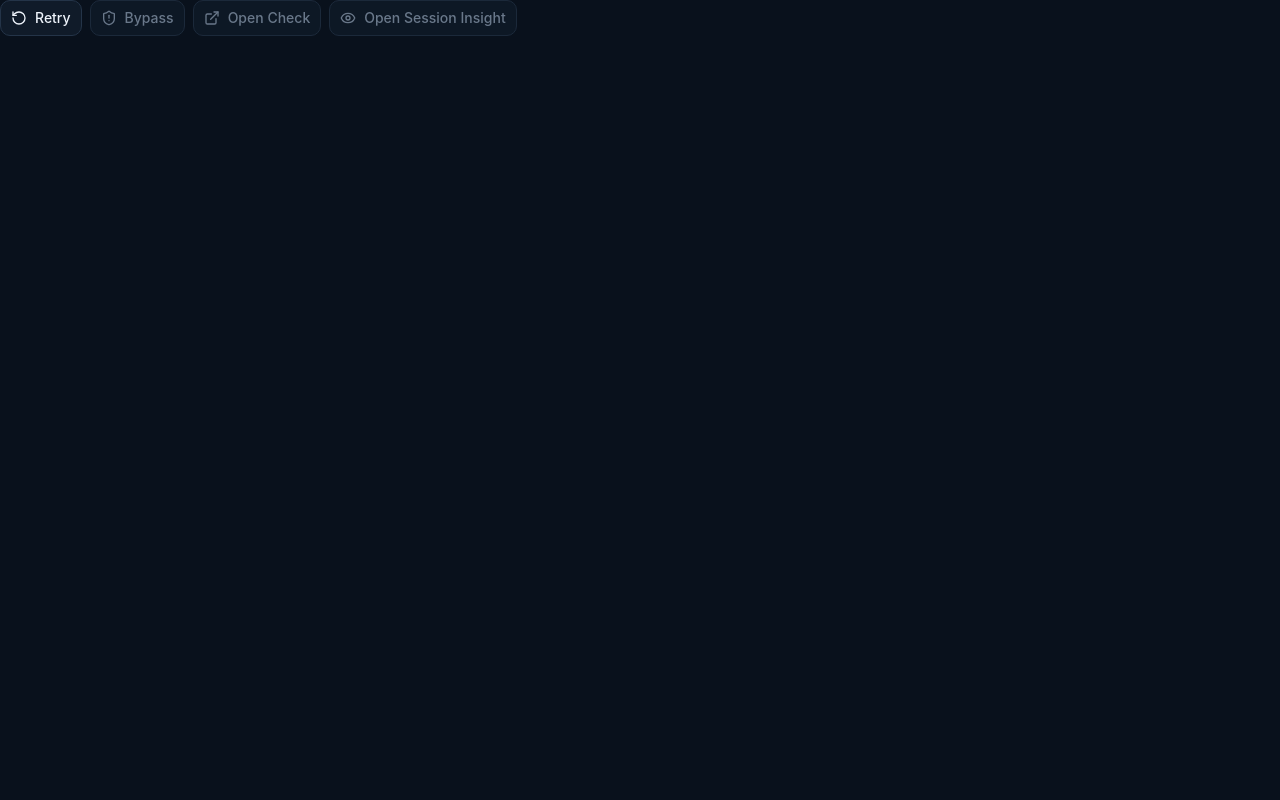
Scenario: Retry confirmation › github authoritative retry copy states the standing decision is revoked
Click the button "Retry": [41, 18] box [0, 0, 82, 36]
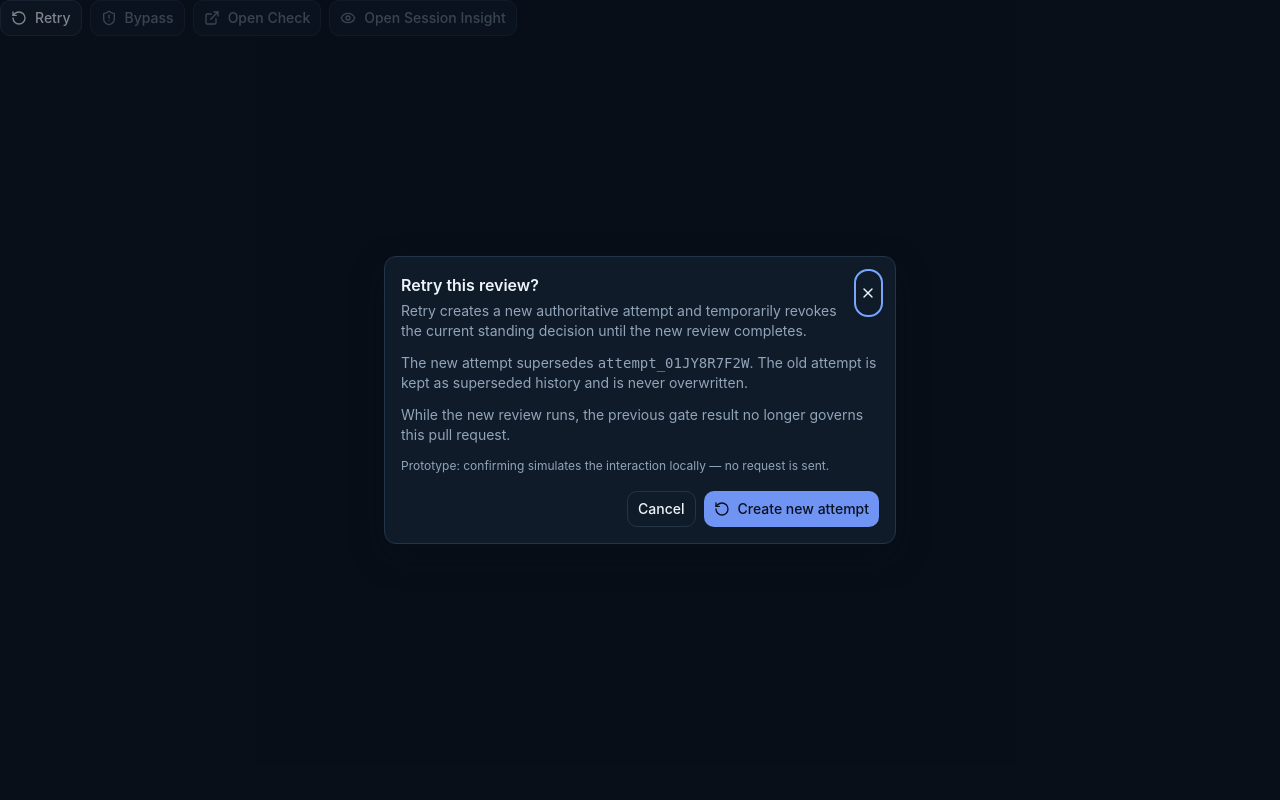
Result: the text "temporarily revokes the current standing decision" is shown at [401, 302, 837, 339]
Result: the text "superseded history and is never overwritten" is shown at [401, 354, 876, 391]
Click the button "Create new attempt": [791, 509] box [704, 491, 879, 527]
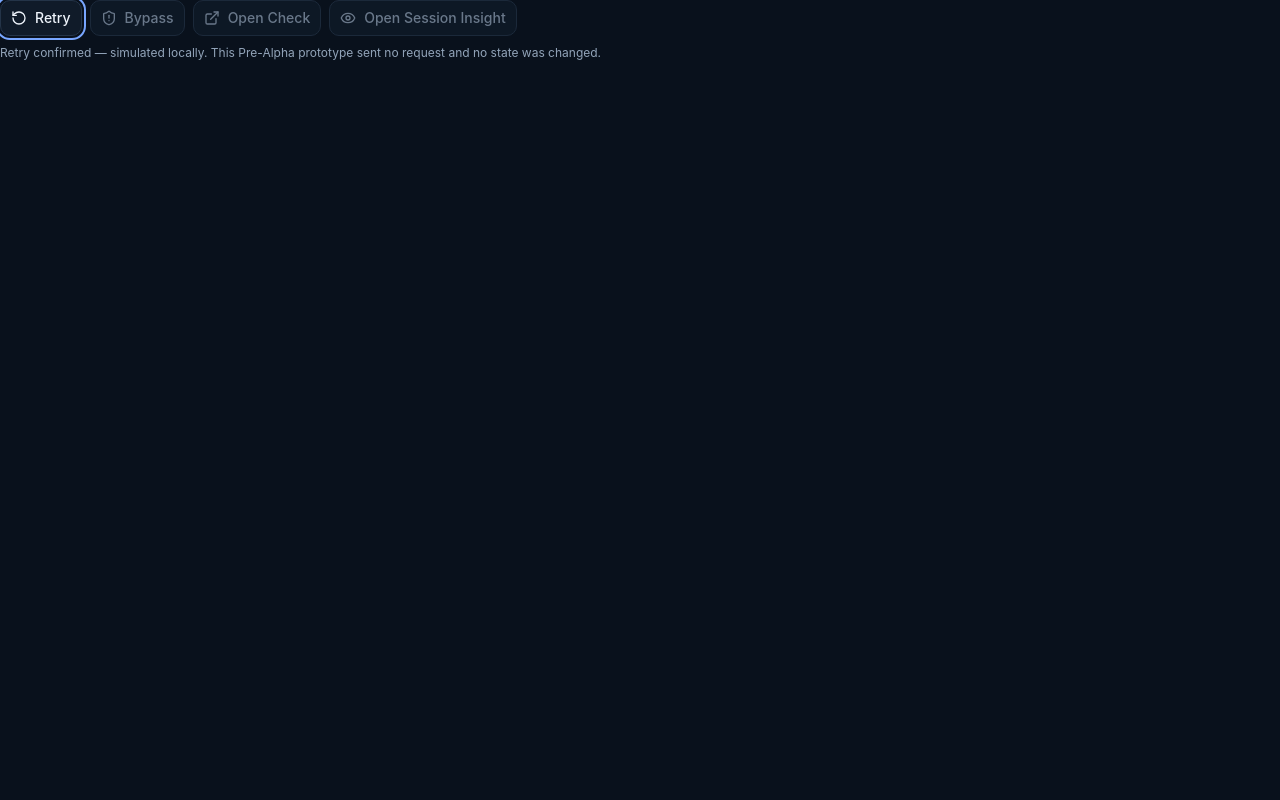
Result: the message shows "simulated locally" at [0, 45, 601, 60]
Result: the message shows "sent no request" at [0, 45, 601, 60]
